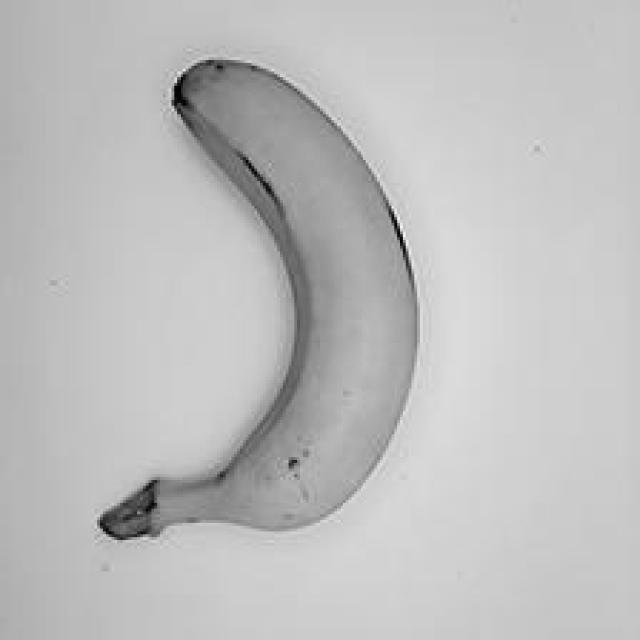Unripe: (40, 27, 465, 576)
